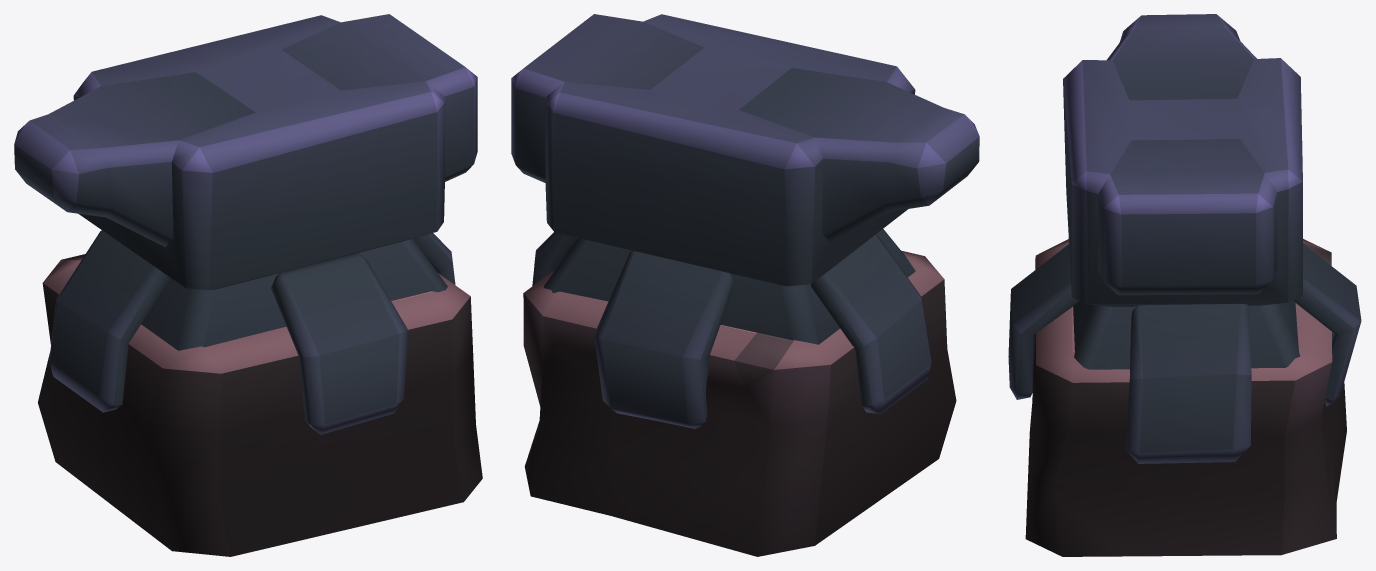
File: undead_anvil_big.fbx
3 views of the same model, side by side, from view 1: azimuth 30°, elevation 25°; view 2: azimuth 150°, elevation 25°; view 3: azimuth 270°, elevation 25° (orthographic). The views are drawn at different scales.
Parts seen in each view (by area): view 1: undead_anvil_big; view 2: undead_anvil_big; view 3: undead_anvil_big.
Part boxes in pixels (bbox=[...]): undead_anvil_big: bbox=[14, 14, 482, 556]; undead_anvil_big: bbox=[511, 14, 979, 556]; undead_anvil_big: bbox=[1008, 14, 1361, 556].
Size of the model in its own units: 2.49 by 2.23 by 1.93.
